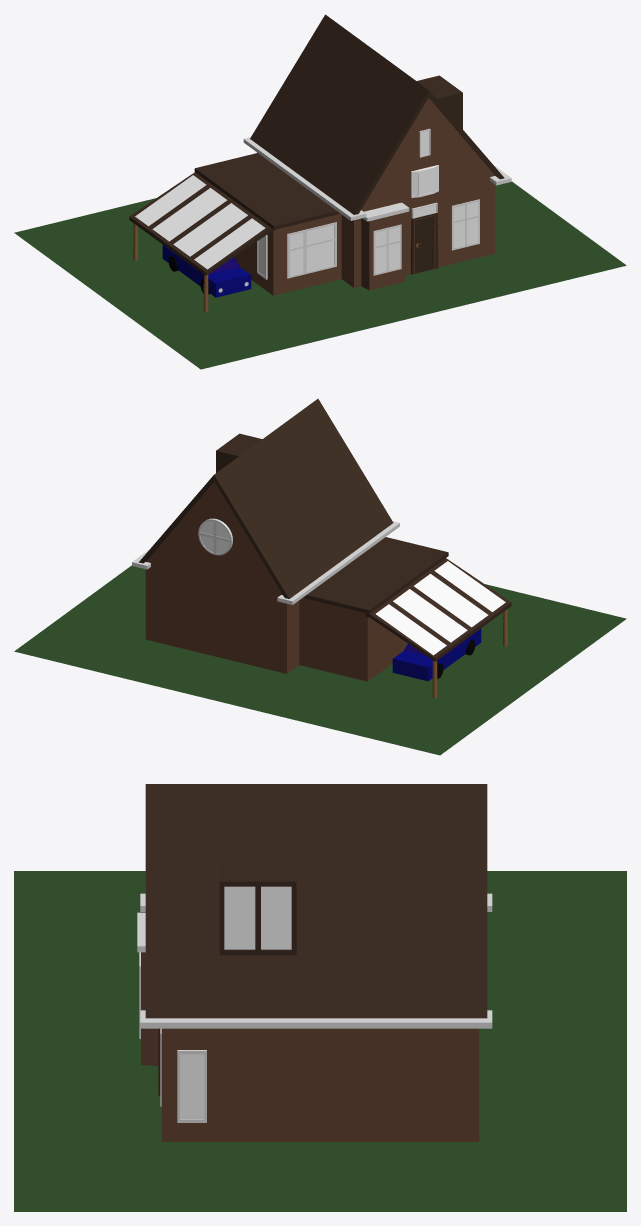
Rendered from gameHouse2.fbx.
3 renders of one model, top to bottom at view 1: azimuth 30°, elevation 25°; view 2: azimuth 150°, elevation 25°; view 3: azimuth 270°, elevation 25°, orthographic. The views are drawn at different scales.
Visible parts, largest first — view 1: Plane, dak, main house, dak uitbouw, garage dak.001, garage dak, car, raam linksonder glas.003, dakgootL, deur, dakkapel, raam linksonder glas.001 (+5 smaller); view 2: Plane, main house, dak, dak uitbouw, garage dak.001, garage dak, car, dakgootL, dakkapel, rond raam achter glas, rond raam achter; view 3: Plane, dak, main house, dakkapel, glazen dakkapel, dakgootR, raamL zijkantR glas, raamL zijkantR.
Part boxes in pixels (left/top/right/bottom): Plane: left=14, top=181, right=626, bottom=369; dak: left=250, top=14, right=504, bottom=214; main house: left=234, top=98, right=495, bottom=295; dak uitbouw: left=194, top=153, right=340, bottom=229; garage dak.001: left=135, top=175, right=265, bottom=269; garage dak: left=129, top=172, right=275, bottom=275; car: left=162, top=245, right=251, bottom=297; raam linksonder glas.003: left=290, top=225, right=333, bottom=275; dakgootL: left=243, top=137, right=366, bottom=220; deur: left=415, top=216, right=434, bottom=273; dakkapel: left=417, top=75, right=462, bottom=128; raam linksonder glas.001: left=375, top=227, right=399, bottom=273; Plane: left=14, top=565, right=626, bottom=755; main house: left=145, top=481, right=407, bottom=681; dak: left=139, top=398, right=393, bottom=598; dak uitbouw: left=303, top=537, right=448, bottom=613; garage dak.001: left=376, top=561, right=505, bottom=655; garage dak: left=365, top=558, right=511, bottom=661; car: left=392, top=628, right=481, bottom=681; dakgootL: left=277, top=521, right=399, bottom=604; dakkapel: left=216, top=433, right=262, bottom=472; rond raam achter glas: left=200, top=521, right=229, bottom=553; rond raam achter: left=198, top=518, right=232, bottom=555; Plane: left=14, top=871, right=626, bottom=1211; dak: left=145, top=784, right=487, bottom=1018; main house: left=141, top=952, right=479, bottom=1141; dakkapel: left=219, top=856, right=296, bottom=955; glazen dakkapel: left=224, top=886, right=291, bottom=949; dakgootR: left=140, top=1010, right=492, bottom=1028; raamL zijkantR glas: left=180, top=1054, right=204, bottom=1119; raamL zijkantR: left=177, top=1050, right=206, bottom=1122.
Size of the model in its own units: 5055 by 2088 by 3840.
